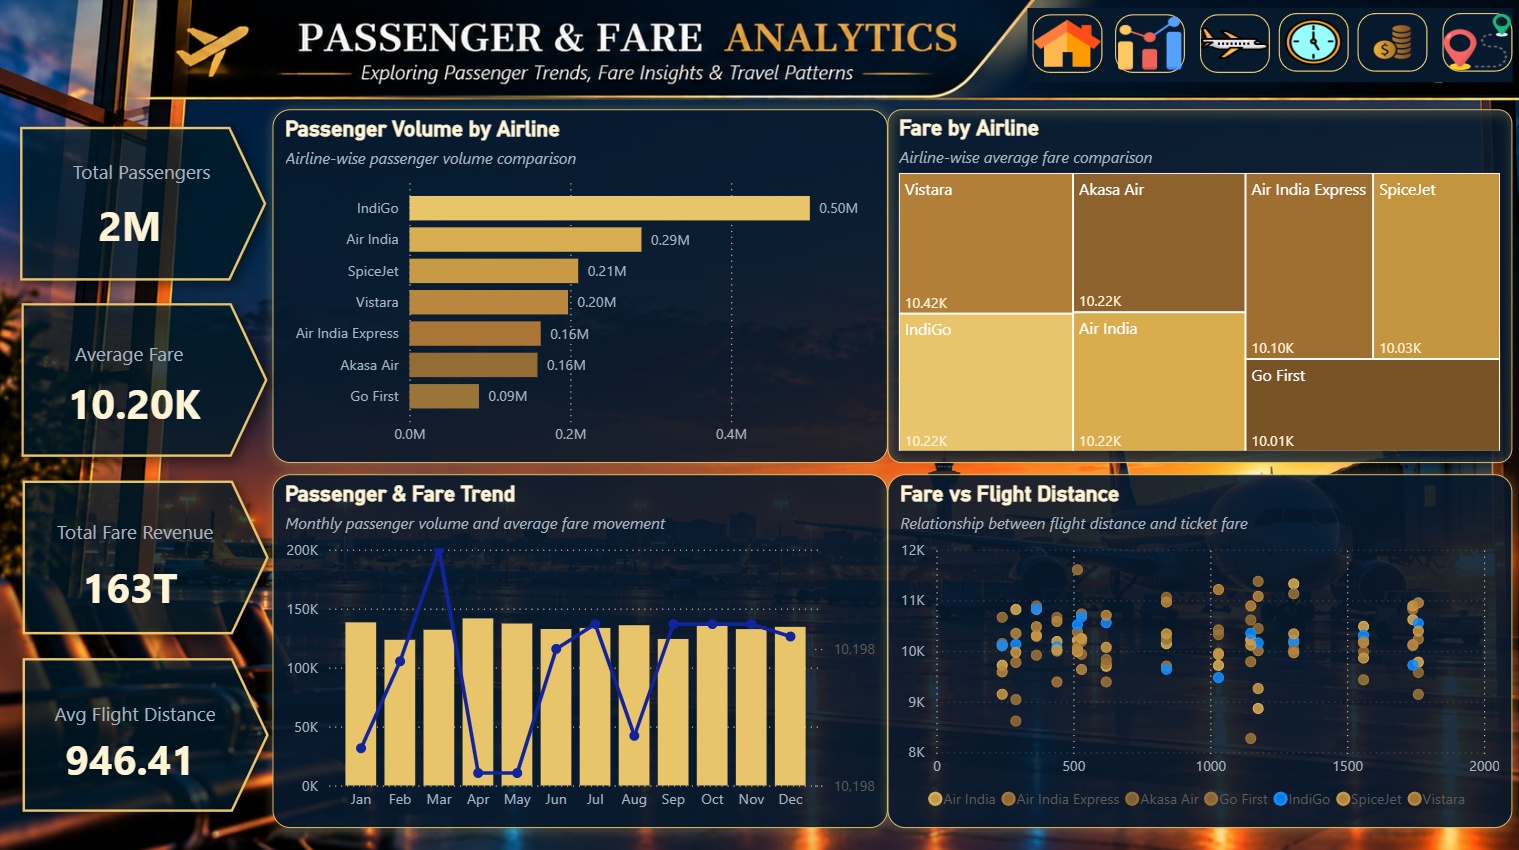

The dashboard page shown, as its layout file describes it:
{"tool":"powerbi","page":{"name":"Passenger & Fare Analytics","canvas":[1280,720],"ordinal":4},"visuals":[{"type":"image","box":[0,0,1280,720],"z":0},{"type":"shape","title":"Total passengers","box":[2.2,93.3,236.7,158.9],"z":1000},{"type":"clusteredBarChart","title":"Passenger Volume by Airline","fields":{"Category":["Flight_Data.Airline"],"Y":["Sum(Flight_Data.Passengers)"]},"box":[228.9,93.3,517.8,297.8],"z":2000},{"type":"treemap","title":"Fare by Airline","fields":{"Group":["Flight_Data.Airline"],"Values":["Flight_Data.Average Ticket Fare"]},"box":[746.7,93.3,525.6,297.8],"z":3000},{"type":"lineClusteredColumnComboChart","title":"Passenger & Fare Trend","fields":{"Y":["Sum(Flight_Data.Passengers)"],"Y2":["Avg(Flight_Data.Average Fare)"],"Category":["Date_Table.Month"]},"box":[228.9,401.1,517.8,297.8],"z":4000},{"type":"scatterChart","title":"Fare vs Flight Distance","fields":{"X":["Flight_Data.Distance_km"],"Y":["Avg(Flight_Data.Ticket_Fare_INR)"],"Series":["Flight_Data.Airline"]},"box":[746.7,401.1,525.6,297.8],"z":5000},{"type":"shape","box":[31.1,117.8,175.6,55.6],"z":6000},{"type":"shape","box":[45.6,154.4,127.8,71.1],"z":7000},{"type":"shape","title":"Total passengers","box":[4.4,540,236.7,158.9],"z":8000},{"type":"shape","title":"Total passengers","box":[4.4,391.1,236.7,158.9],"z":9000},{"type":"shape","title":"Total passengers","box":[3.3,242.2,236.7,158.9],"z":10000},{"type":"shape","box":[22.2,267.8,173.3,62.2],"z":11000},{"type":"shape","box":[31.1,417.8,164.4,61.1],"z":12000},{"type":"shape","box":[38.9,463.3,141.1,61.1],"z":13000},{"type":"shape","box":[25.6,567.8,176.7,66.7],"z":14000},{"type":"shape","box":[36.7,308.9,152.2,61.1],"z":15000},{"type":"shape","box":[38.9,611.1,141.1,56.7],"z":16000}]}

Visuals, with their boxes in screenshot pixels (x1, y1, x2, y2), scaled from the page's 1280x720 canvas onto the 1519x850 screenshot:
image: 0, 0, 1518, 849
"Total passengers" shape: 3, 110, 284, 298
"Passenger Volume by Airline" clusteredBarChart: 272, 110, 886, 462
"Fare by Airline" treemap: 886, 110, 1510, 462
"Passenger & Fare Trend" lineClusteredColumnComboChart: 272, 474, 886, 825
"Fare vs Flight Distance" scatterChart: 886, 474, 1510, 825
shape: 37, 139, 245, 205
shape: 54, 182, 206, 266
"Total passengers" shape: 5, 638, 286, 825
"Total passengers" shape: 5, 462, 286, 649
"Total passengers" shape: 4, 286, 285, 474
shape: 26, 316, 232, 390
shape: 37, 493, 232, 565
shape: 46, 547, 214, 619
shape: 30, 670, 240, 749
shape: 44, 365, 224, 437
shape: 46, 721, 214, 788
